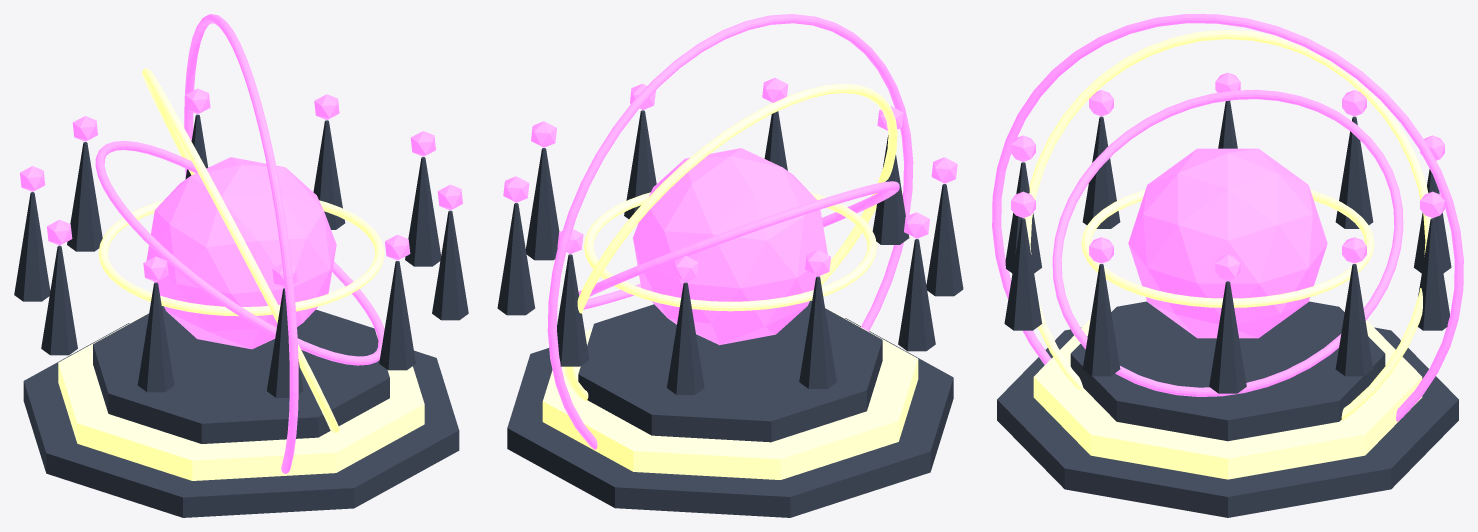
File: gpu-blender-v57.glb
3 renders of one model, left to right at view 1: azimuth 30°, elevation 25°; view 2: azimuth 150°, elevation 25°; view 3: azimuth 270°, elevation 25°, orthographic. The views are drawn at different scales.
Parts seen in each view (by area): view 1: Cylinder.002, SovereignCore_mcp-lens, Cylinder, Cylinder.001, Torus.003, Torus.001, Torus, Torus.002, Cone.006, Cone.009, Cone.005, Cone.008 (+12 smaller); view 2: Cylinder.002, SovereignCore_mcp-lens, Cylinder, Cylinder.001, Torus.003, Torus.002, Torus, Torus.001, Cone.005, Cone.001, Cone.006, Cone.003 (+12 smaller); view 3: SovereignCore_mcp-lens, Cylinder.002, Cylinder, Cylinder.001, Torus.003, Torus.001, Torus.002, Torus, Cone.001, Cone.009, Cone, Cone.008 (+7 smaller).
Part boxes in pixels (left/top/right/bottom): Cylinder.002: left=93, top=306, right=389, bottom=443; SovereignCore_mcp-lens: left=146, top=157, right=336, bottom=349; Cylinder: left=23, top=323, right=459, bottom=517; Cylinder.001: left=58, top=314, right=424, bottom=480; Torus.003: left=184, top=14, right=298, bottom=473; Torus.001: left=95, top=141, right=384, bottom=365; Torus: left=98, top=200, right=384, bottom=316; Torus.002: left=142, top=68, right=339, bottom=432; Cone.006: left=137, top=282, right=174, bottom=392; Cone.009: left=432, top=210, right=468, bottom=320; Cone.005: left=41, top=245, right=77, bottom=355; Cone.008: left=379, top=261, right=415, bottom=370; Cylinder.002: left=578, top=300, right=882, bottom=442; SovereignCore_mcp-lens: left=633, top=148, right=827, bottom=345; Cylinder: left=507, top=318, right=953, bottom=517; Cylinder.001: left=542, top=308, right=918, bottom=479; Torus.003: left=547, top=14, right=913, bottom=449; Torus.002: left=564, top=83, right=897, bottom=400; Torus: left=584, top=192, right=876, bottom=311; Torus.001: left=578, top=181, right=899, bottom=309; Cone.005: left=898, top=239, right=935, bottom=351; Cone.001: left=497, top=203, right=535, bottom=315; Cone.006: left=926, top=184, right=963, bottom=296; Cone.003: left=667, top=282, right=704, bottom=394; SovereignCore_mcp-lens: left=1128, top=148, right=1327, bottom=338; Cylinder.002: left=1070, top=301, right=1385, bottom=441; Cylinder: left=997, top=327, right=1458, bottom=517; Cylinder.001: left=1033, top=319, right=1422, bottom=479; Torus.003: left=992, top=14, right=1463, bottom=421; Torus.001: left=1052, top=89, right=1403, bottom=396; Torus.002: left=1024, top=30, right=1431, bottom=420; Torus: left=1081, top=190, right=1374, bottom=307; Cone.001: left=1335, top=264, right=1373, bottom=376; Cone.009: left=1082, top=264, right=1120, bottom=376; Cone: left=1209, top=281, right=1246, bottom=393; Cone.008: left=1004, top=218, right=1042, bottom=330.
Size of the model in its own units: 4.41 by 4.7 by 4.49.
